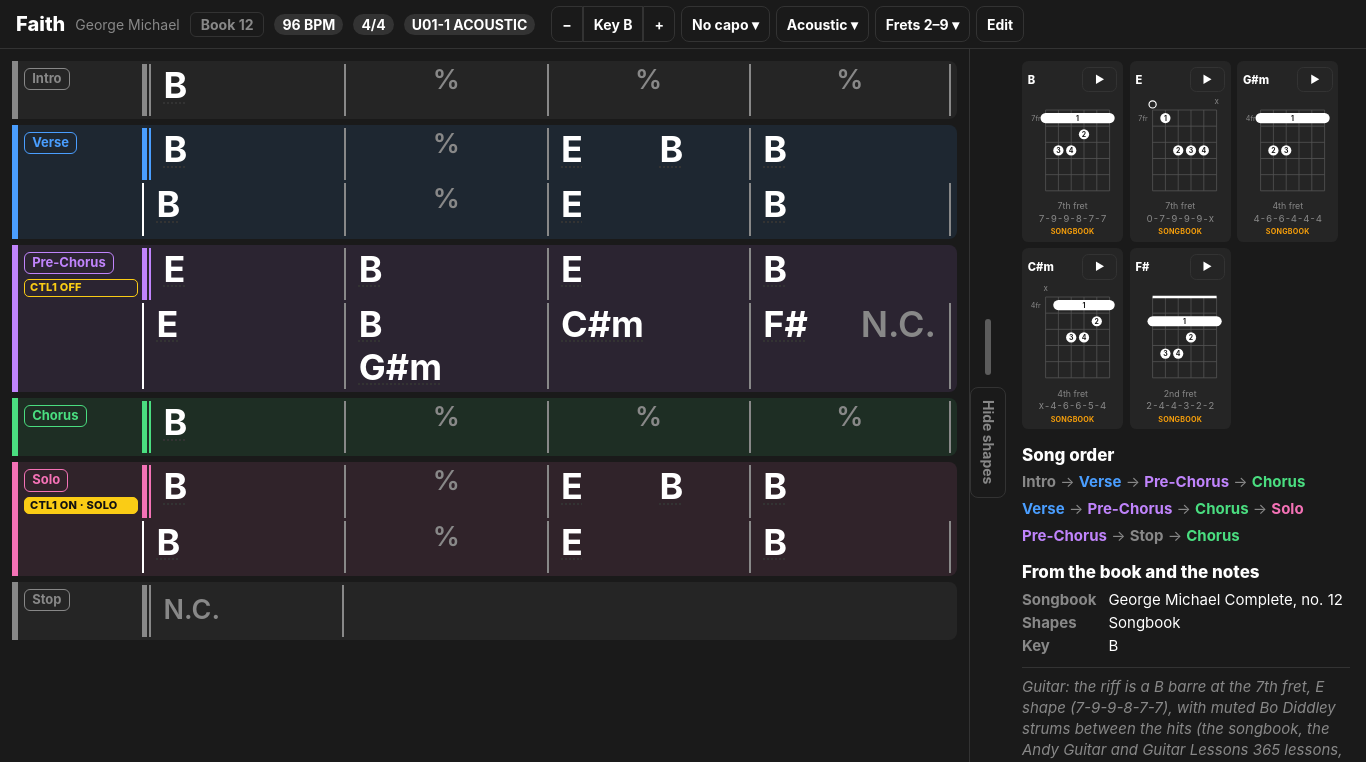
moving the chords from the setup row › opens from the position on the title line and says where the shapes come from
Click the button with aria-label "Recommended position: frets 2 to 9. Move the chords" at (922,24), box [875,6,970,42]
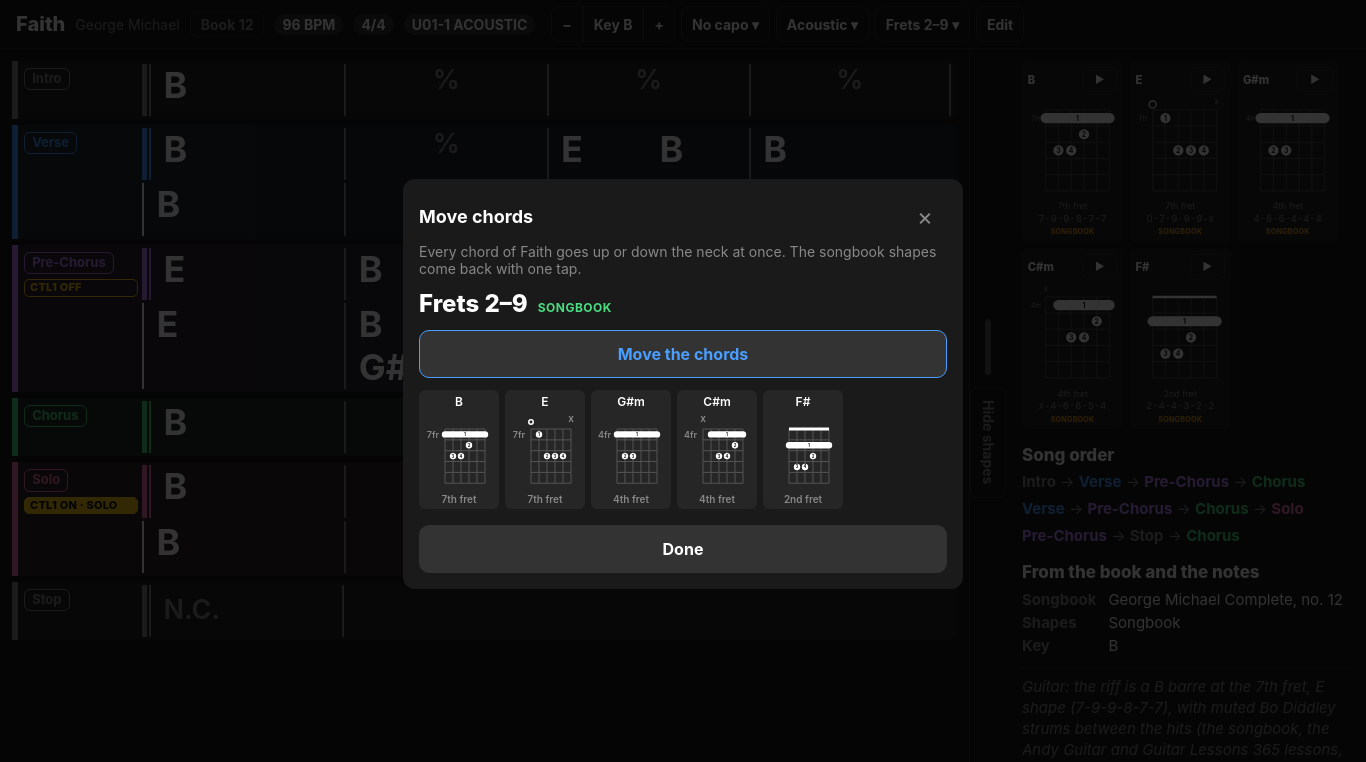
Expected: the dialog "Move chords" shows "Frets 2–9", [419,289,528,318]
Expected: the text "Songbook" is shown, [538,300,612,315]
